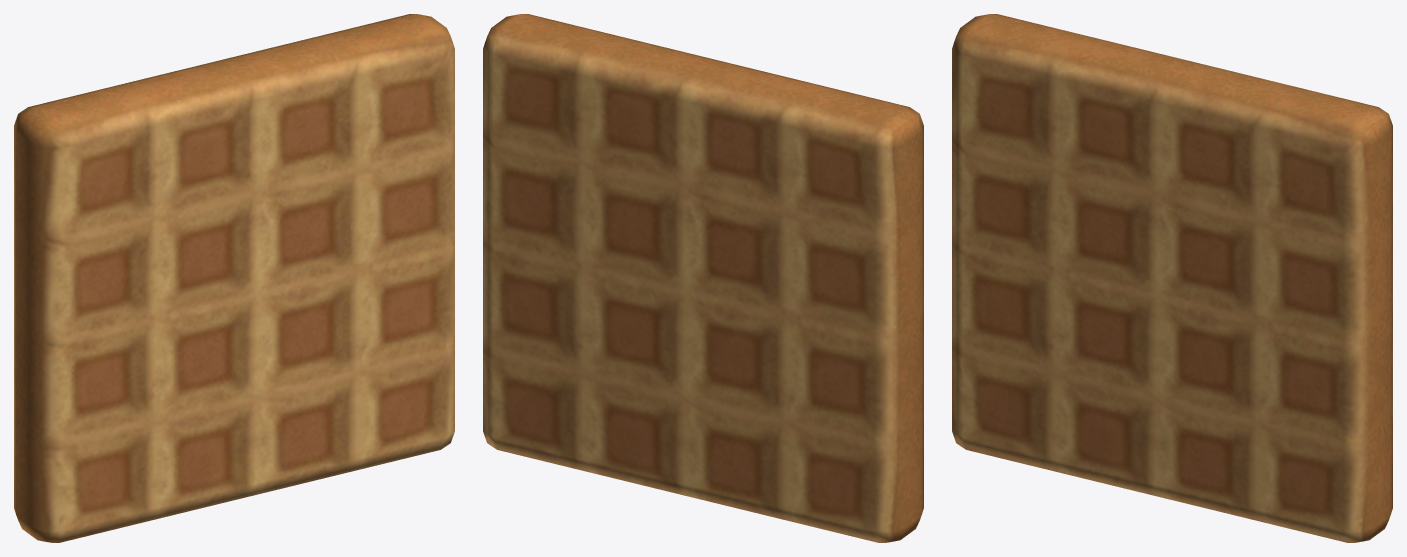
The model's file is 0-waffle.fbx.
The picture shows the model from 3 angles, left to right: view 1: azimuth 30°, elevation 25°; view 2: azimuth 150°, elevation 25°; view 3: azimuth 330°, elevation 25°; orthographic projection.
Visible parts, largest first — view 1: 0-waffle; view 2: 0-waffle; view 3: 0-waffle.
Part boxes in pixels (x1,y1,x2,y2): 0-waffle: (14,14,454,542); 0-waffle: (483,14,923,542); 0-waffle: (952,14,1392,542).
Size of the model in its own units: 88.96 by 85.81 by 14.05.
